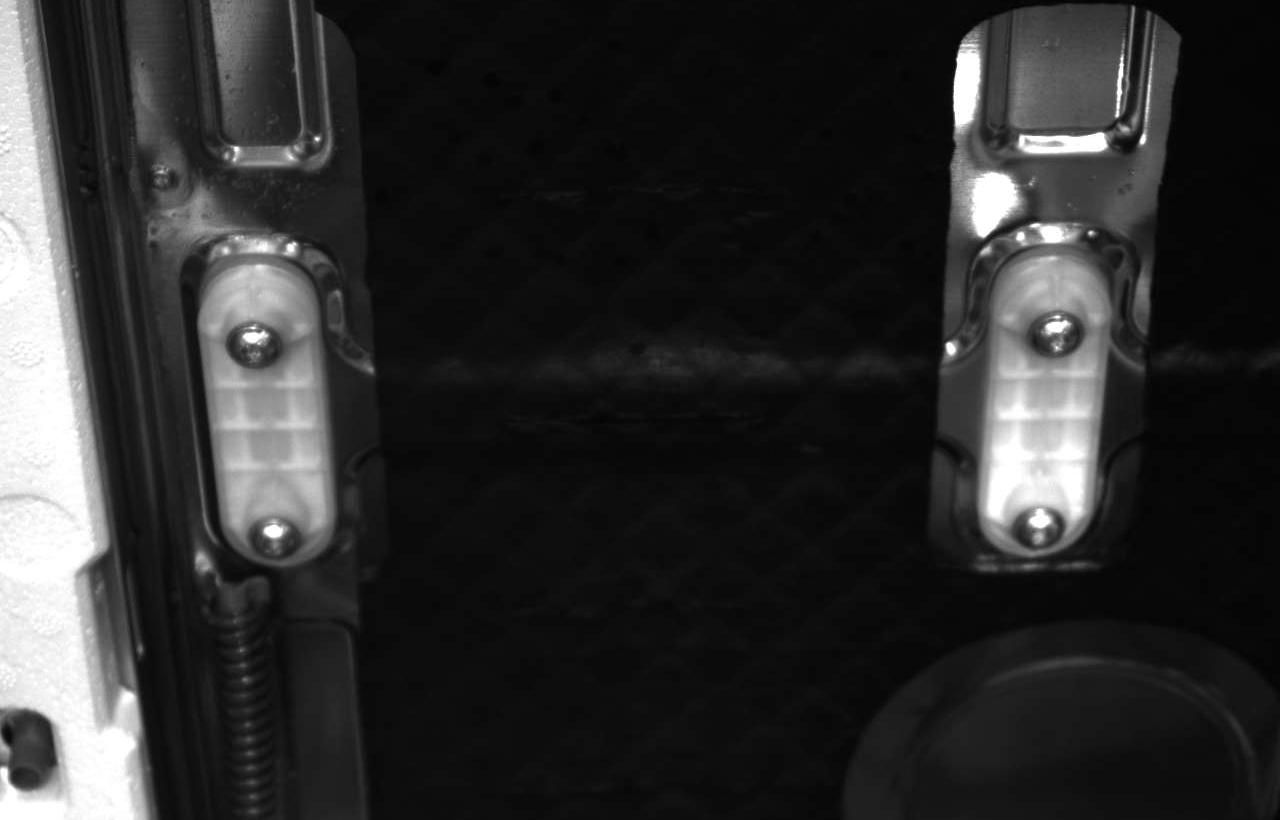vida-ok: (217, 317, 289, 384), (1027, 301, 1094, 368), (1009, 487, 1074, 555), (244, 507, 310, 565)
